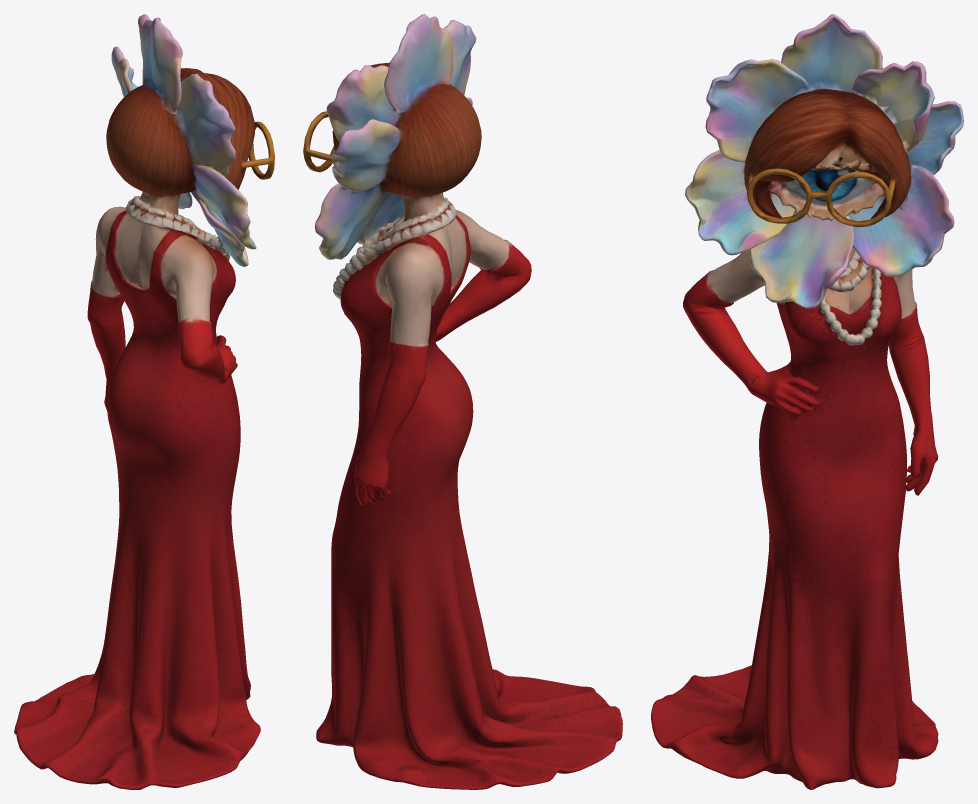
The model's file is actress.glb.
The picture shows the model from 3 angles, left to right: view 1: azimuth 30°, elevation 25°; view 2: azimuth 150°, elevation 25°; view 3: azimuth 270°, elevation 25°; orthographic projection. The views are drawn at different scales.
Visible parts, largest first — view 1: tripo_node_058a3aab-caec-415b-b0f7-e44096bb8c06; view 2: tripo_node_058a3aab-caec-415b-b0f7-e44096bb8c06; view 3: tripo_node_058a3aab-caec-415b-b0f7-e44096bb8c06.
Part boxes in pixels (x1=…): tripo_node_058a3aab-caec-415b-b0f7-e44096bb8c06: x1=14, y1=14, x2=274, y2=789; tripo_node_058a3aab-caec-415b-b0f7-e44096bb8c06: x1=303, y1=14, x2=622, y2=789; tripo_node_058a3aab-caec-415b-b0f7-e44096bb8c06: x1=651, y1=14, x2=963, y2=789.
Size of the model in its own units: 0.359 by 1 by 0.3855.
Materials: 1 (1 with a texture image).
